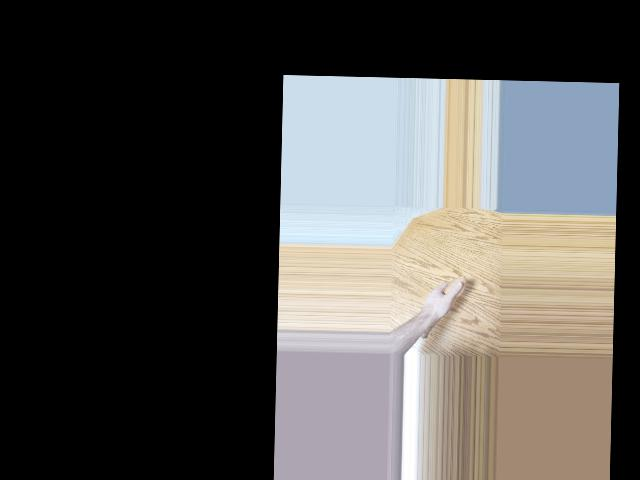sweet_potato: (421, 273, 467, 338)
